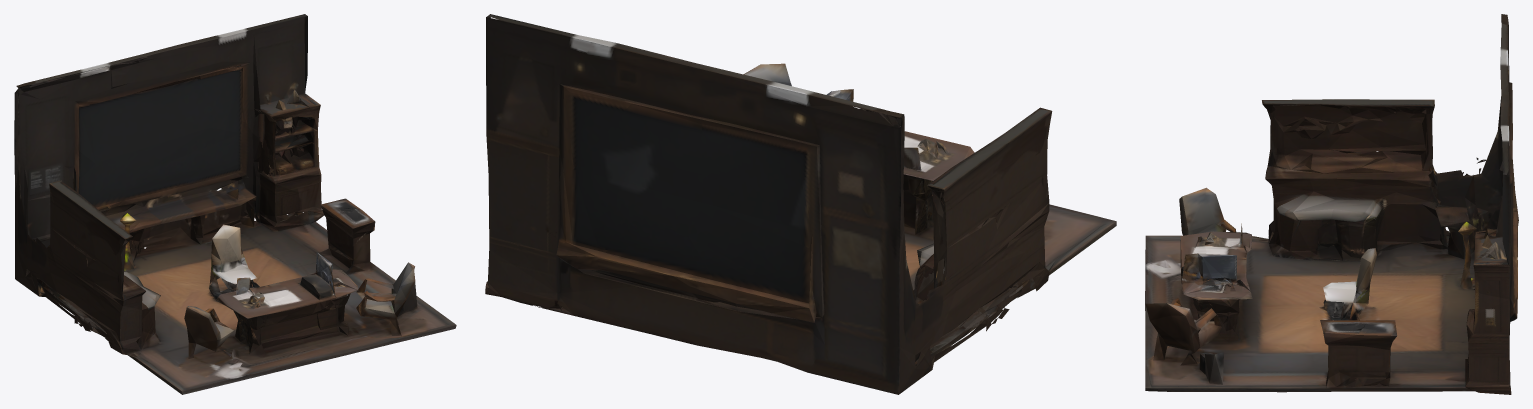
The model's file is Create_a_museum_offic_0509225740_texture.fbx.
3 renders of one model, left to right at view 1: azimuth 30°, elevation 25°; view 2: azimuth 150°, elevation 25°; view 3: azimuth 270°, elevation 25°, orthographic. The views are drawn at different scales.
Visible parts, largest first — view 1: temp; view 2: temp; view 3: temp.
Part boxes in pixels (x1,y1,x2,y2): temp: (14,14,456,394); temp: (485,14,1116,394); temp: (1145,14,1518,394).
Bounding box in the file's own units: 200 × 128 × 195.
1 material, 1 textured.
